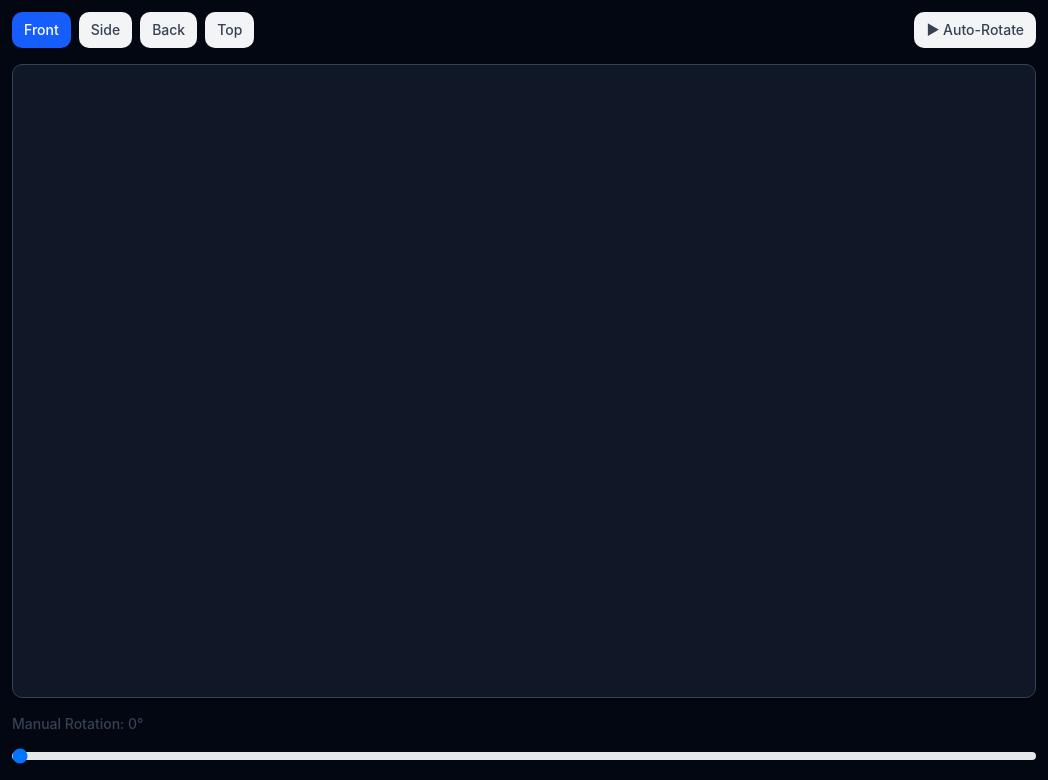
Test: SkeletonVisualization › Rotation Controls › should stop auto-rotation when using slider
# Start auto-rotation
Click the button "▶ Auto-Rotate".
click(975, 30)  # box left=914, top=12, right=1036, bottom=48
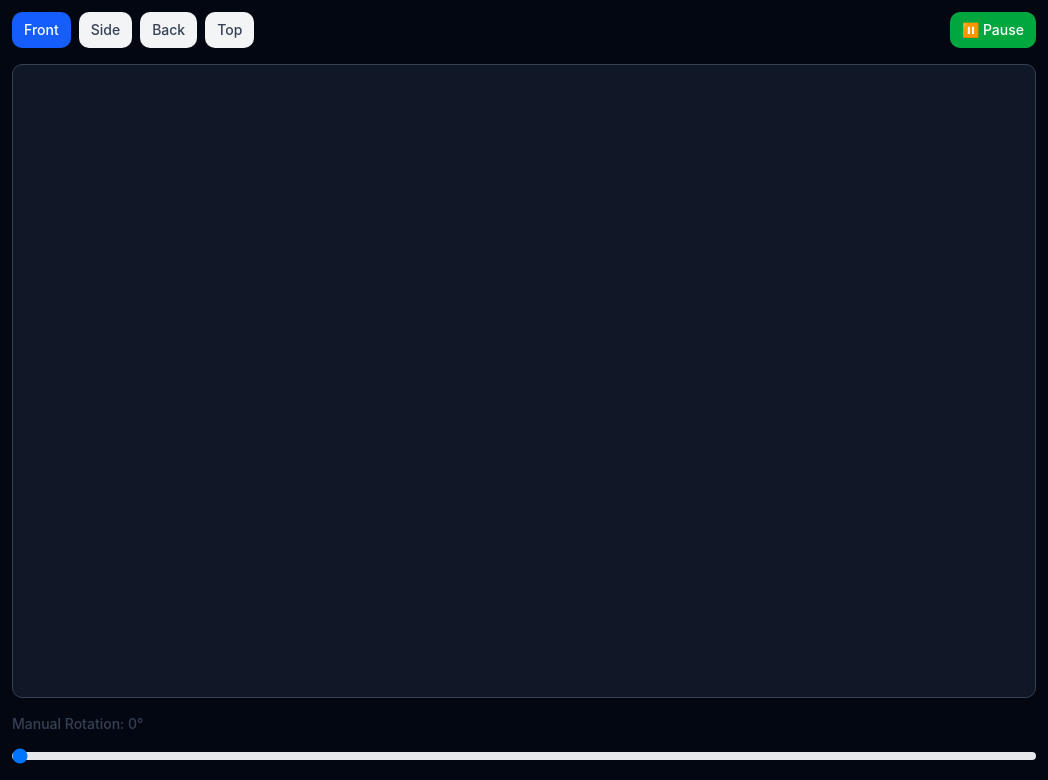
expect the button "⏸ Pause" is shown: met, box left=950, top=12, right=1036, bottom=48
# Use slider
Set the slider to "45" at (146, 756), box left=12, top=752, right=1036, bottom=760
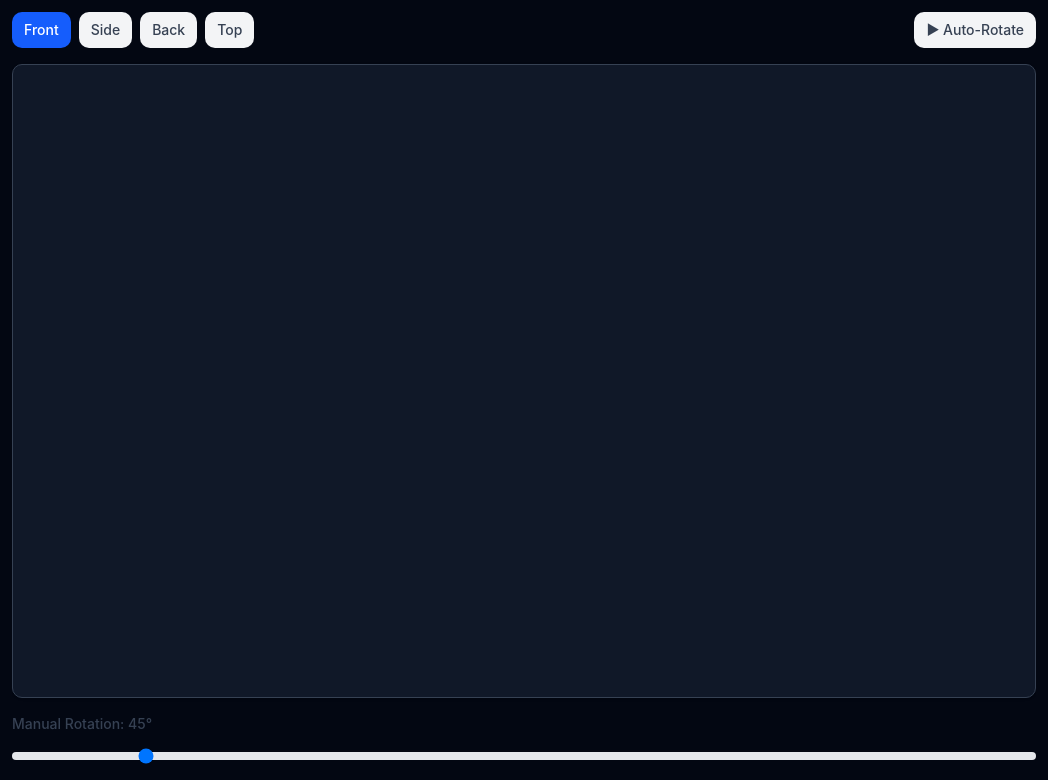
expect the button "▶ Auto-Rotate" is shown: met, box left=914, top=12, right=1036, bottom=48
